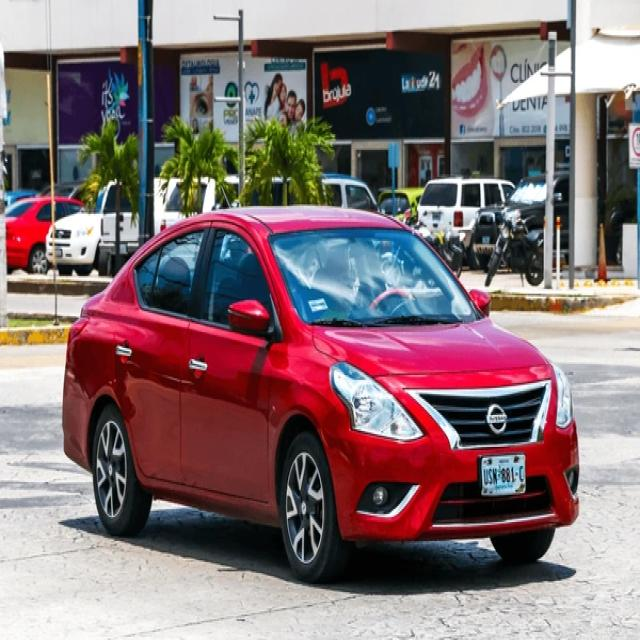nissan: (486, 404, 510, 434)
